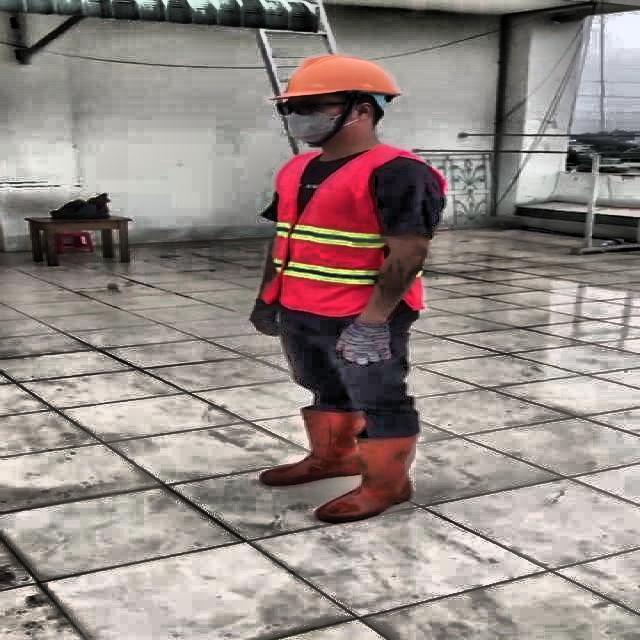safety_helmet: (270, 53, 408, 100)
safety_jacket: (260, 148, 448, 319)
